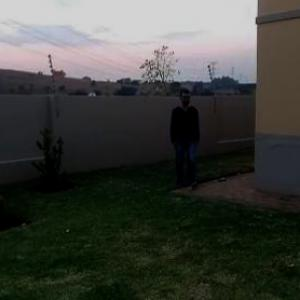follow: (165, 85, 202, 196)
